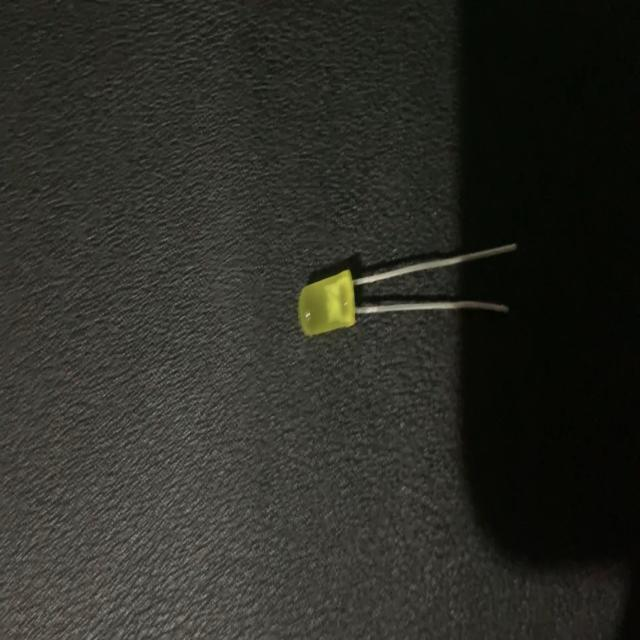LED: (298, 246, 522, 339)
